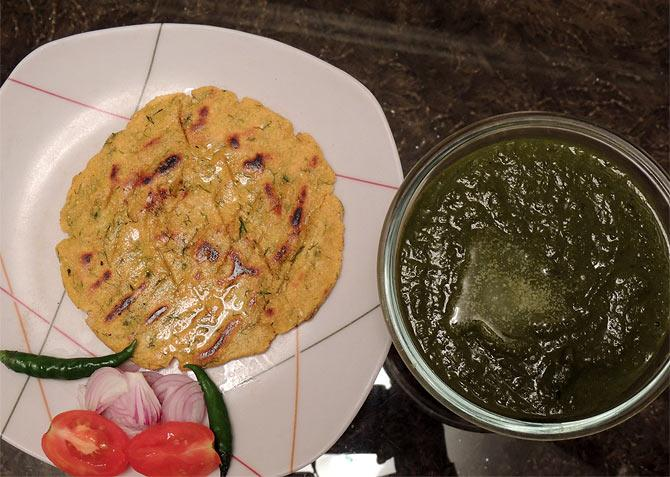saag: (406, 143, 670, 409)
